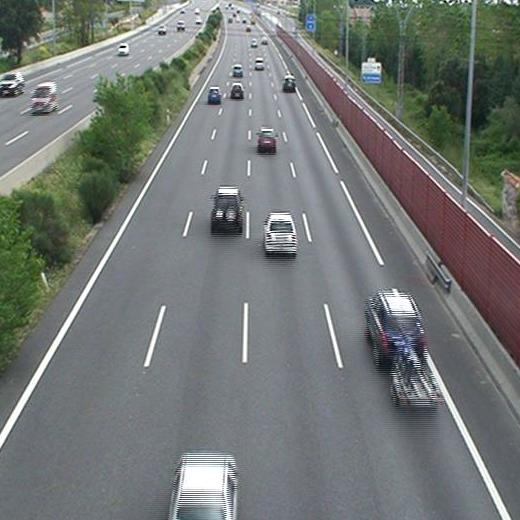car: (169, 455, 237, 520), (366, 294, 425, 356), (264, 213, 297, 252), (212, 190, 242, 224), (258, 130, 276, 149), (207, 88, 223, 102), (231, 64, 244, 77), (282, 76, 295, 89), (231, 84, 244, 97), (253, 58, 265, 69)
